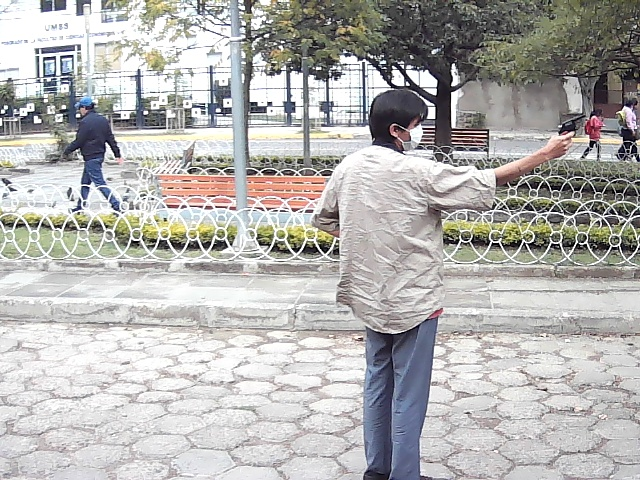pistola: (543, 109, 589, 163)
